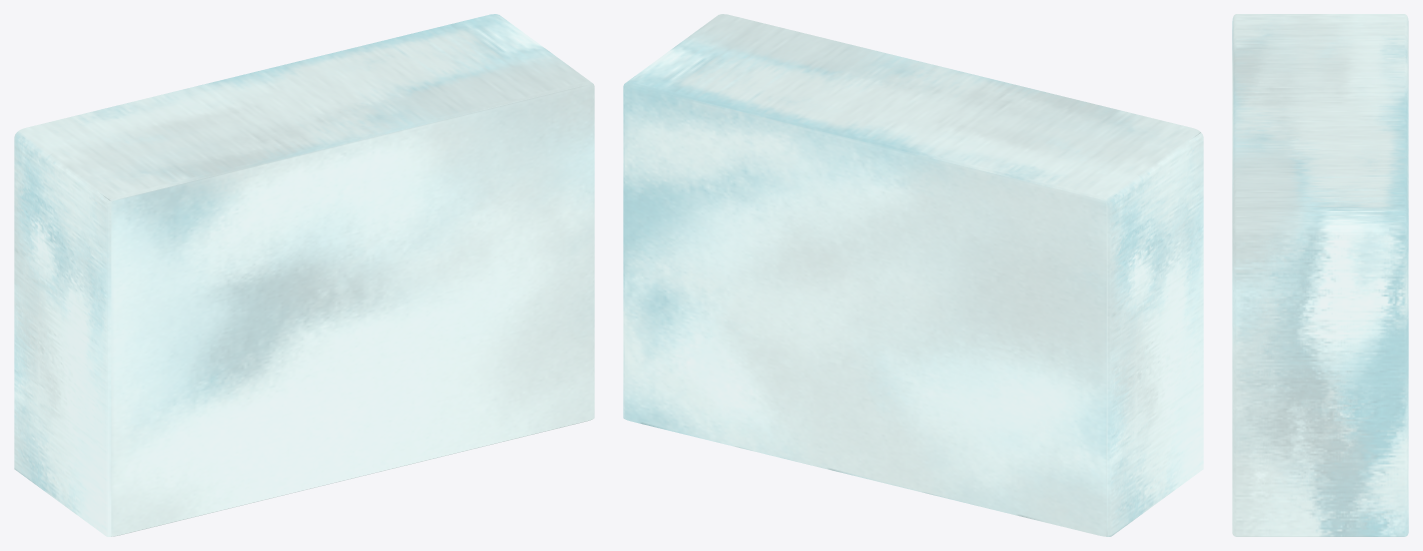
The model's file is Table.fbx.
3 renders of one model, left to right at view 1: azimuth 30°, elevation 25°; view 2: azimuth 150°, elevation 25°; view 3: azimuth 270°, elevation 25°, orthographic. The views are drawn at different scales.
Parts seen in each view (by area): view 1: Cube; view 2: Cube; view 3: Cube.
Boxes of the visible parts, <box> form: Cube: <box>14,14,594,536</box>; Cube: <box>623,14,1203,536</box>; Cube: <box>1232,14,1408,536</box>.
Size of the model in its own units: 1.05 by 0.3602 by 0.6959.
